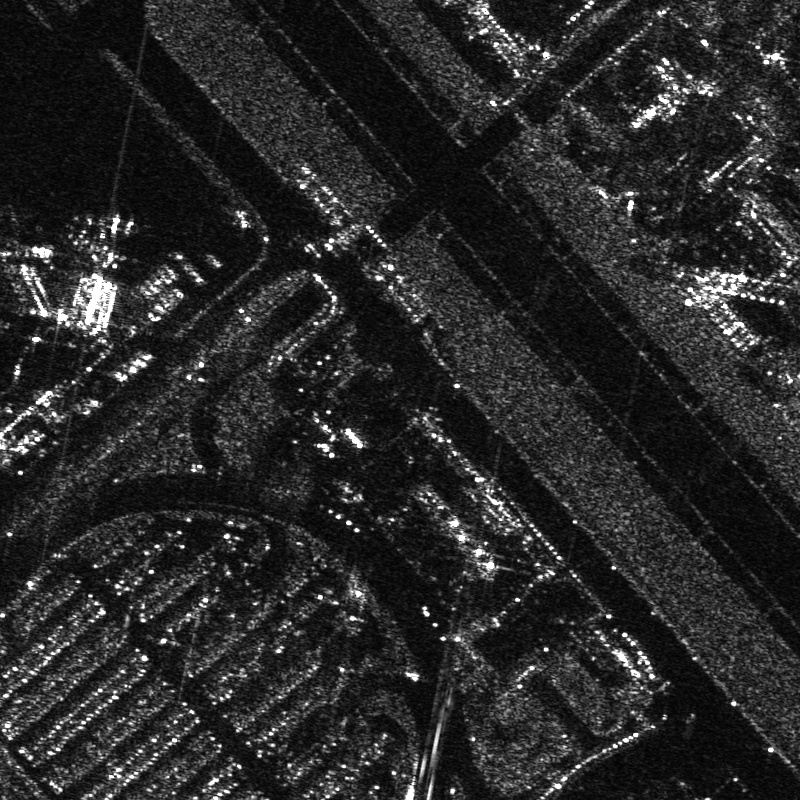Boeing737: (1, 201, 57, 270)
Boeing787: (69, 203, 154, 272)
